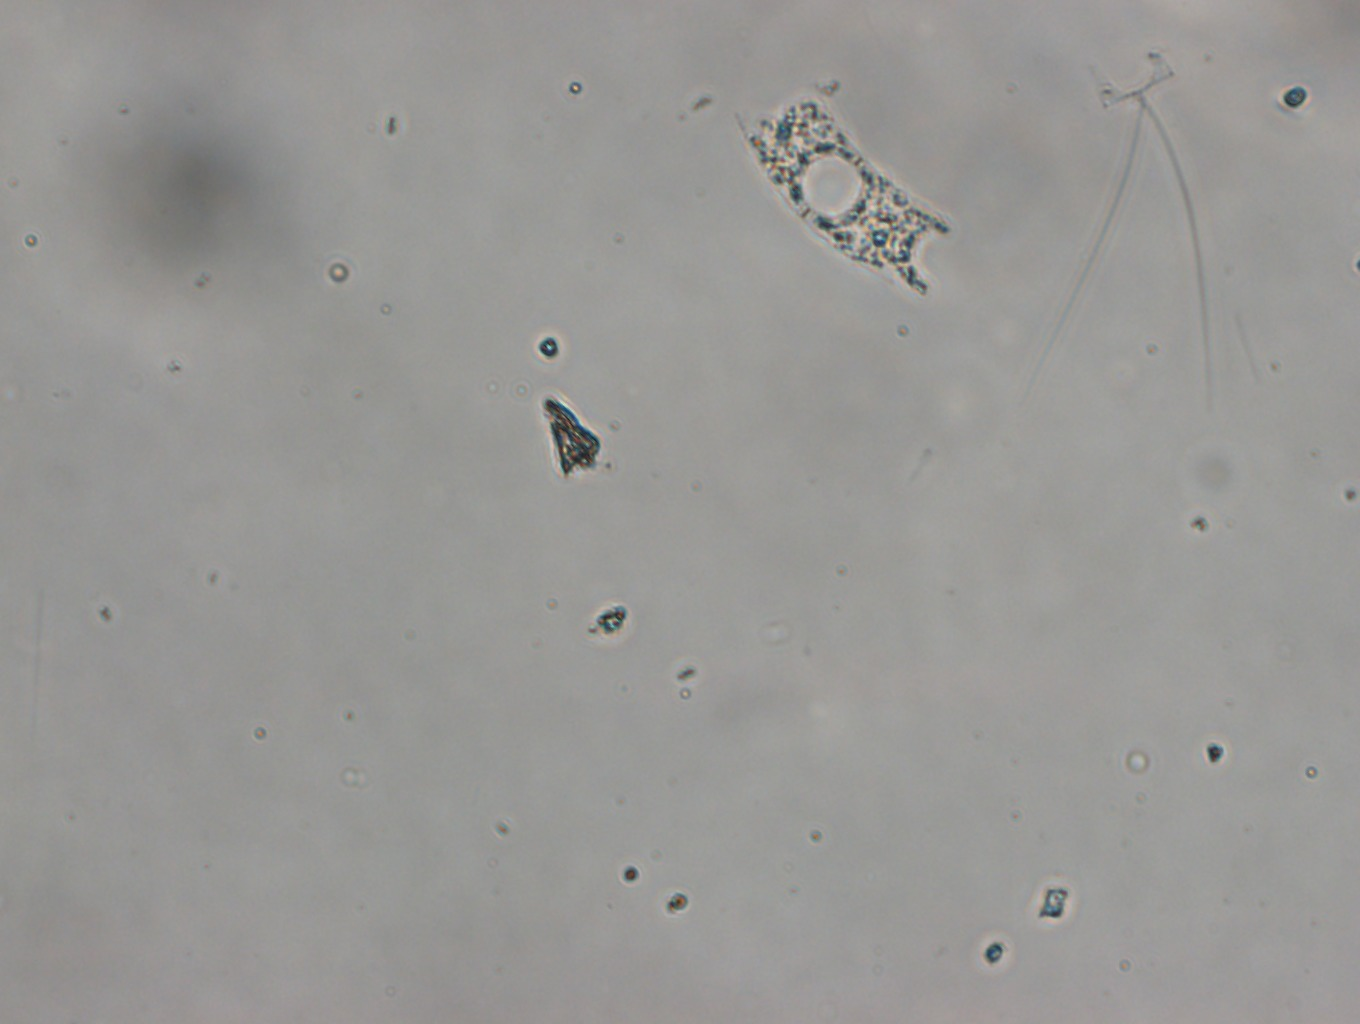eucampia: (732, 75, 972, 295)
